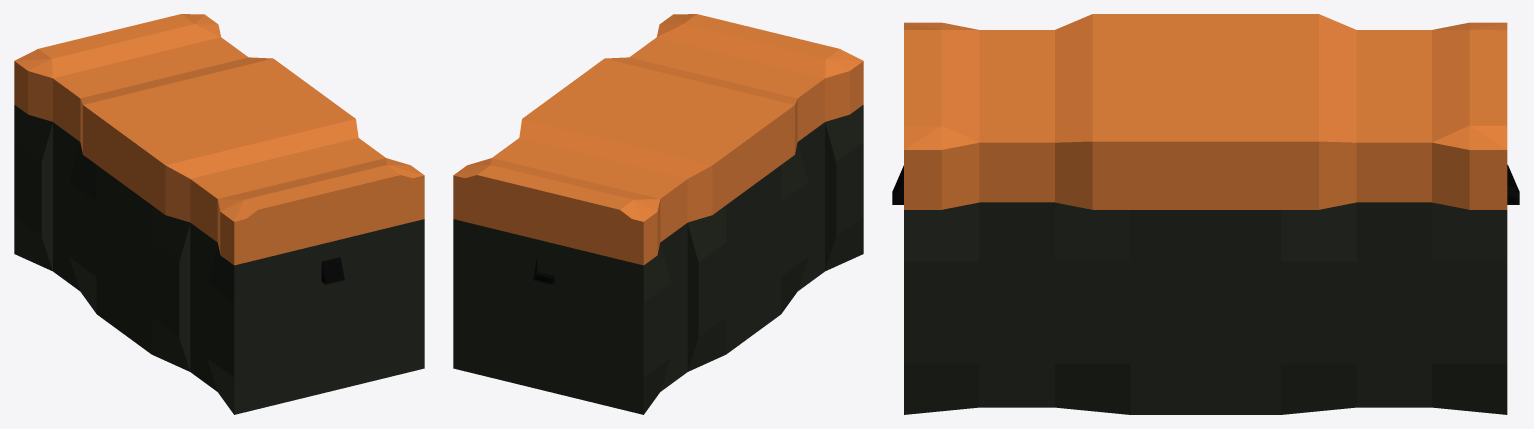
Rendered from WeaponBox.fbx.
3 views of the same model, side by side, from view 1: azimuth 30°, elevation 25°; view 2: azimuth 150°, elevation 25°; view 3: azimuth 270°, elevation 25° (orthographic). The views are drawn at different scales.
Visible parts, largest first — view 1: Cube.002, Cube, Cube.001; view 2: Cube.002, Cube; view 3: Cube.002, Cube.
Part boxes in pixels (x1=…): Cube.002: x1=14, y1=105, x2=424, y2=414; Cube: x1=14, y1=14, x2=424, y2=265; Cube.001: x1=321, y1=257, x2=344, y2=284; Cube.002: x1=453, y1=105, x2=863, y2=414; Cube: x1=453, y1=14, x2=863, y2=265; Cube.002: x1=904, y1=202, x2=1507, y2=414; Cube: x1=904, y1=14, x2=1507, y2=209.
Bounding box in the file's own units: 200 × 200 × 416.
